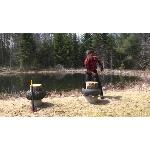Kapak: (87, 67, 106, 83)
